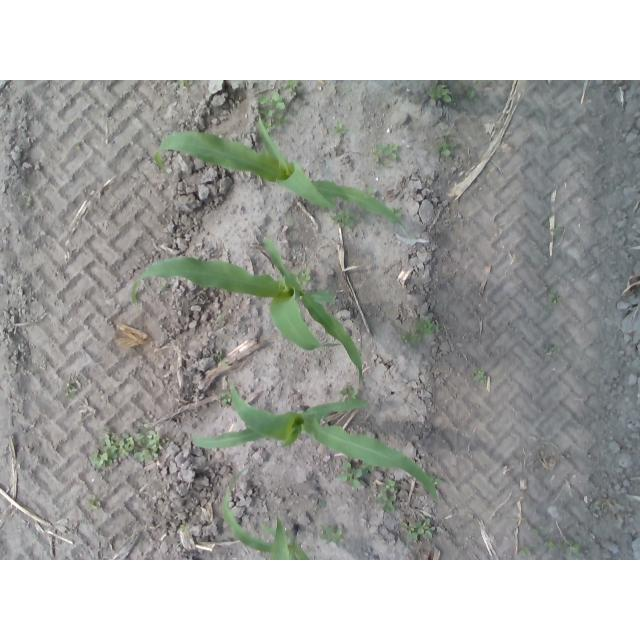Maize: (131, 235, 364, 387), (153, 114, 413, 238), (189, 382, 439, 502), (223, 465, 310, 560)
Weeds: (90, 435, 135, 466), (339, 460, 363, 489), (257, 93, 286, 115), (408, 519, 432, 541), (424, 85, 452, 103), (377, 488, 396, 512), (333, 211, 359, 226), (319, 526, 341, 543), (417, 319, 435, 333), (148, 430, 160, 450), (86, 495, 101, 511), (134, 450, 153, 462), (385, 143, 398, 157), (300, 269, 313, 281), (135, 432, 146, 446), (566, 543, 579, 554), (220, 392, 231, 405), (441, 141, 450, 156), (386, 480, 397, 492), (410, 333, 423, 343), (341, 385, 352, 396), (400, 523, 413, 532), (265, 121, 275, 132), (286, 81, 298, 90), (516, 547, 528, 556), (137, 421, 150, 429), (374, 157, 384, 167), (393, 208, 404, 217), (374, 144, 383, 155), (550, 290, 558, 302), (542, 540, 554, 548), (547, 345, 560, 352), (349, 390, 359, 399), (476, 369, 485, 379), (534, 526, 543, 535), (265, 110, 276, 117), (467, 90, 475, 99), (333, 125, 344, 131), (318, 501, 327, 508), (397, 334, 407, 340), (69, 385, 76, 393), (179, 524, 185, 531), (559, 227, 565, 233), (177, 80, 184, 85)
